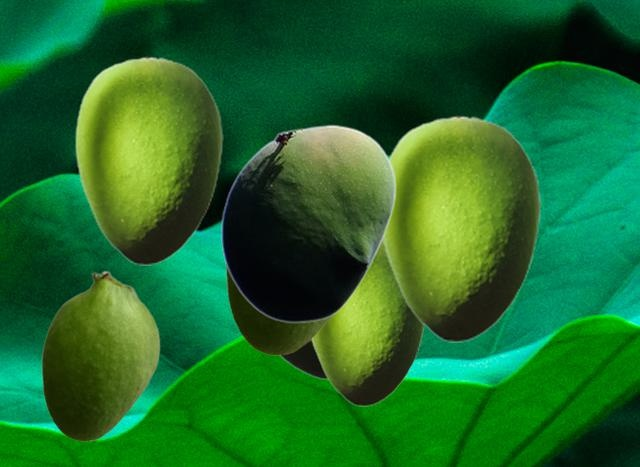green_mango: (381, 115, 540, 341), (220, 124, 396, 322), (74, 56, 222, 264), (41, 270, 159, 440), (309, 244, 426, 405), (225, 266, 335, 354), (278, 342, 326, 379)
